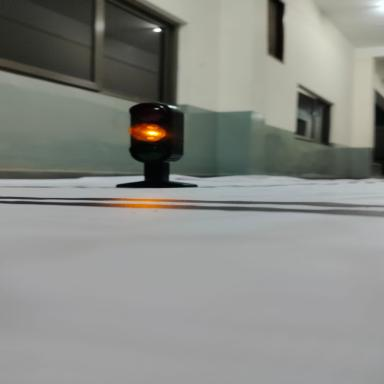yellow: (100, 90, 223, 192)
